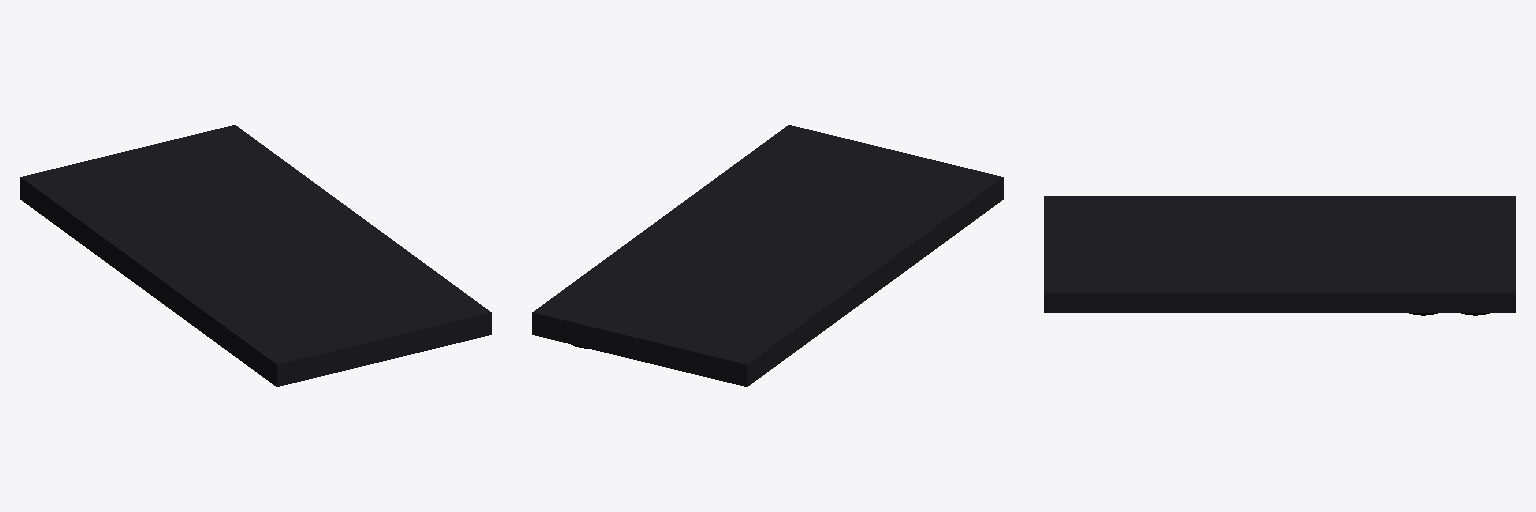
robot.urdf — iphone_16_plus:
<?xml version="1.0"?>
<!-- iPhone 16 Plus: generated by imuninn from Apple's dimensional drawings (iphone-frames dataset). Frames: device = display centre on the front glass (x right, y top, z out of the screen); cam_*_optical = OpenCV axes. Geometry and mass are approximate. -->
<robot name="iphone_16_plus">
  <material name="iphone_body">
    <color rgba="0.15 0.15 0.17 1" />
  </material>
  <material name="iphone_lens">
    <color rgba="0.05 0.05 0.06 1" />
  </material>
  <link name="device">
    <visual name="body">
      <origin xyz="5e-06 0 -0.003905" rpy="0 0 0" />
      <geometry>
        <box size="0.07776 0.16088 0.00781" />
      </geometry>
      <material name="iphone_body" />
    </visual>
    <collision name="body">
      <origin xyz="5e-06 0 -0.003905" rpy="0 0 0" />
      <geometry>
        <box size="0.07776 0.16088 0.00781" />
      </geometry>
    </collision>
    <visual name="lens_ultra_wide">
      <origin xyz="0.025265 0.06682 -0.00955" rpy="0 0 0" />
      <geometry>
        <cylinder radius="0.008" length="0.00348" />
      </geometry>
      <material name="iphone_lens" />
    </visual>
    <visual name="lens_main">
      <origin xyz="0.025265 0.0491 -0.00955" rpy="0 0 0" />
      <geometry>
        <cylinder radius="0.008" length="0.00348" />
      </geometry>
      <material name="iphone_lens" />
    </visual>
    <inertial>
      <origin xyz="5e-06 0 -0.003905" rpy="0 0 0" />
      <mass value="0.225" />
      <inertia ixx="0.000486438" ixy="0" ixz="0" iyy="0.000114518" iyz="0" izz="0.000598669" />
    </inertial>
  </link>
  <link name="magsafe" />
  <joint name="device_to_magsafe" type="fixed">
    <parent link="device" />
    <child link="magsafe" />
    <origin xyz="5e-06 0 -0.00781" rpy="3.14159265 0 3.14159265" />
  </joint>
  <link name="cam_ultra_wide_optical" />
  <joint name="device_to_cam_ultra_wide_optical" type="fixed">
    <parent link="device" />
    <child link="cam_ultra_wide_optical" />
    <origin xyz="0.025265 0.06682 -0.01129" rpy="3.14159265 0 -1.57079633" />
  </joint>
  <link name="cam_main_optical" />
  <joint name="device_to_cam_main_optical" type="fixed">
    <parent link="device" />
    <child link="cam_main_optical" />
    <origin xyz="0.025265 0.0491 -0.01129" rpy="3.14159265 0 -1.57079633" />
  </joint>
  <link name="cam_front_optical" />
  <joint name="device_to_cam_front_optical" type="fixed">
    <parent link="device" />
    <child link="cam_front_optical" />
    <origin xyz="0.007705 0.07226 0" rpy="0 0 1.57079633" />
  </joint>
  <link name="imu" />
  <joint name="device_to_imu" type="fixed">
    <parent link="device" />
    <child link="imu" />
    <origin xyz="0 0 0" rpy="0 0 0" />
  </joint>
</robot>

--- Facts derived from the render (not from the file) ---
3 views of the same robot in one strip: view 1: azimuth 30°, elevation 25°; view 2: azimuth 150°, elevation 25°; view 3: azimuth 270°, elevation 25° (orthographic).
Robot: iphone_16_plus — 6 links, 5 joints (5 fixed); root link device; default pose: every joint at zero.
Links seen in each view (by area): view 1: device; view 2: device; view 3: device.
Link boxes in pixels (left/top/right/bottom): device: left=20, top=125, right=491, bottom=386; device: left=532, top=125, right=1003, bottom=386; device: left=1044, top=196, right=1515, bottom=315.
Size in the robot's own frame: 0.0778 by 0.1609 by 0.0113 metres.
Geometry: primitives only (box / cylinder / sphere), no mesh files.
